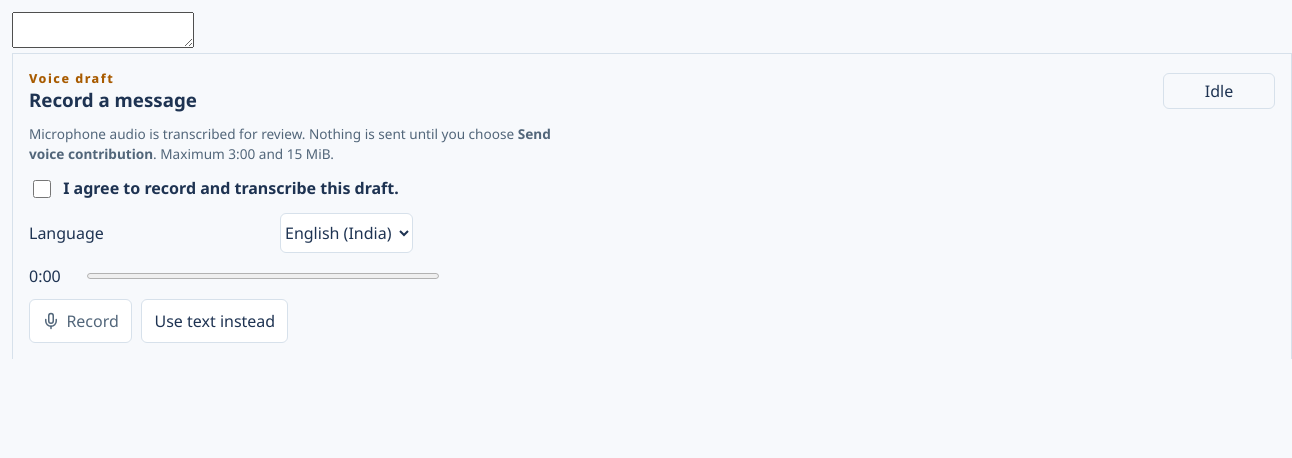
Test: returns focus to text when microphone permission is denied
Click the checkbox at (42, 189), box 33,180 -> 51,198
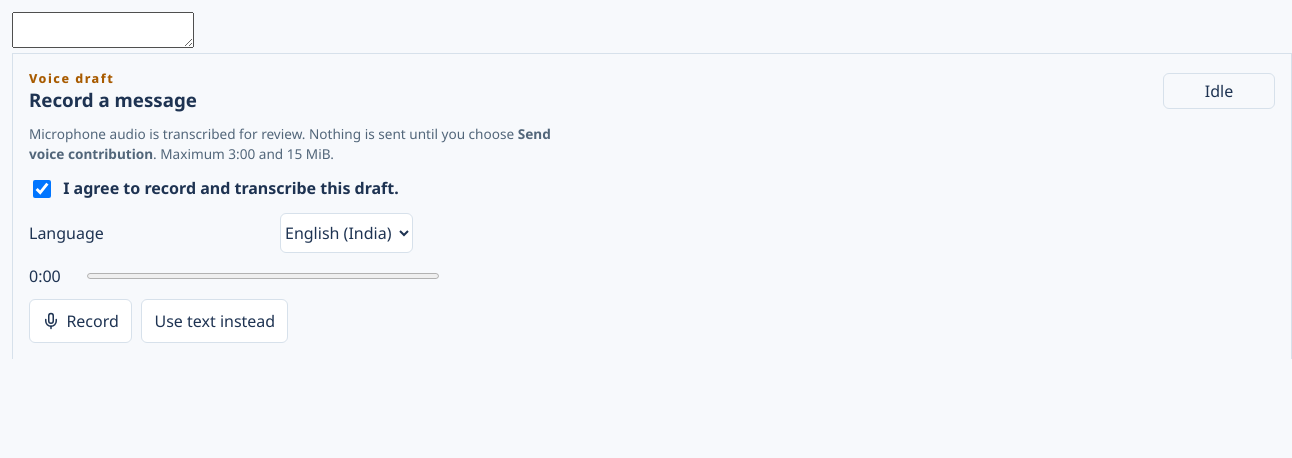
Click the button "Record" at (80, 321), box 29,299 -> 132,343
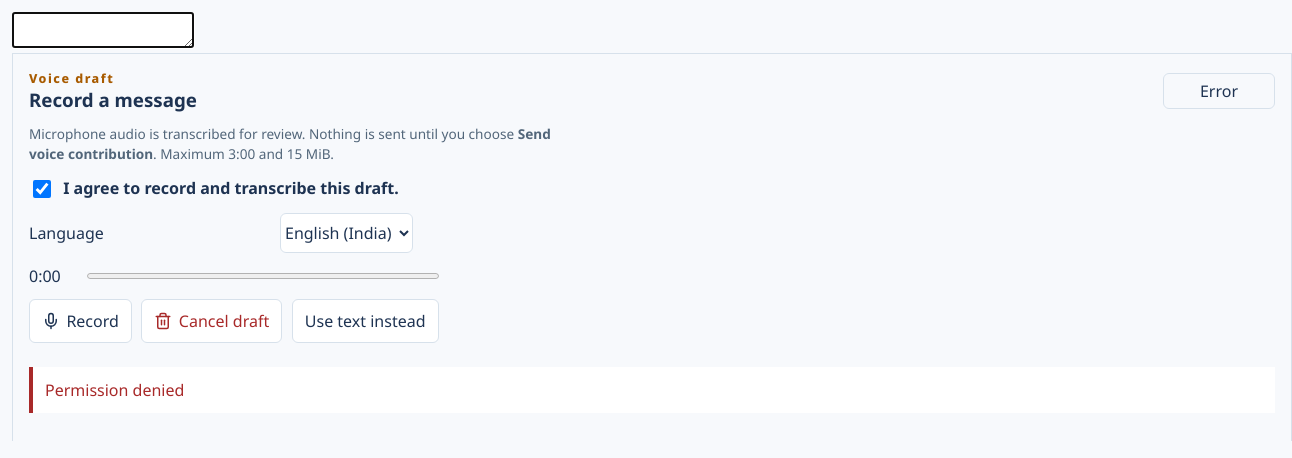
Check: the message reads "Permission denied", box 45,379 -> 184,401
